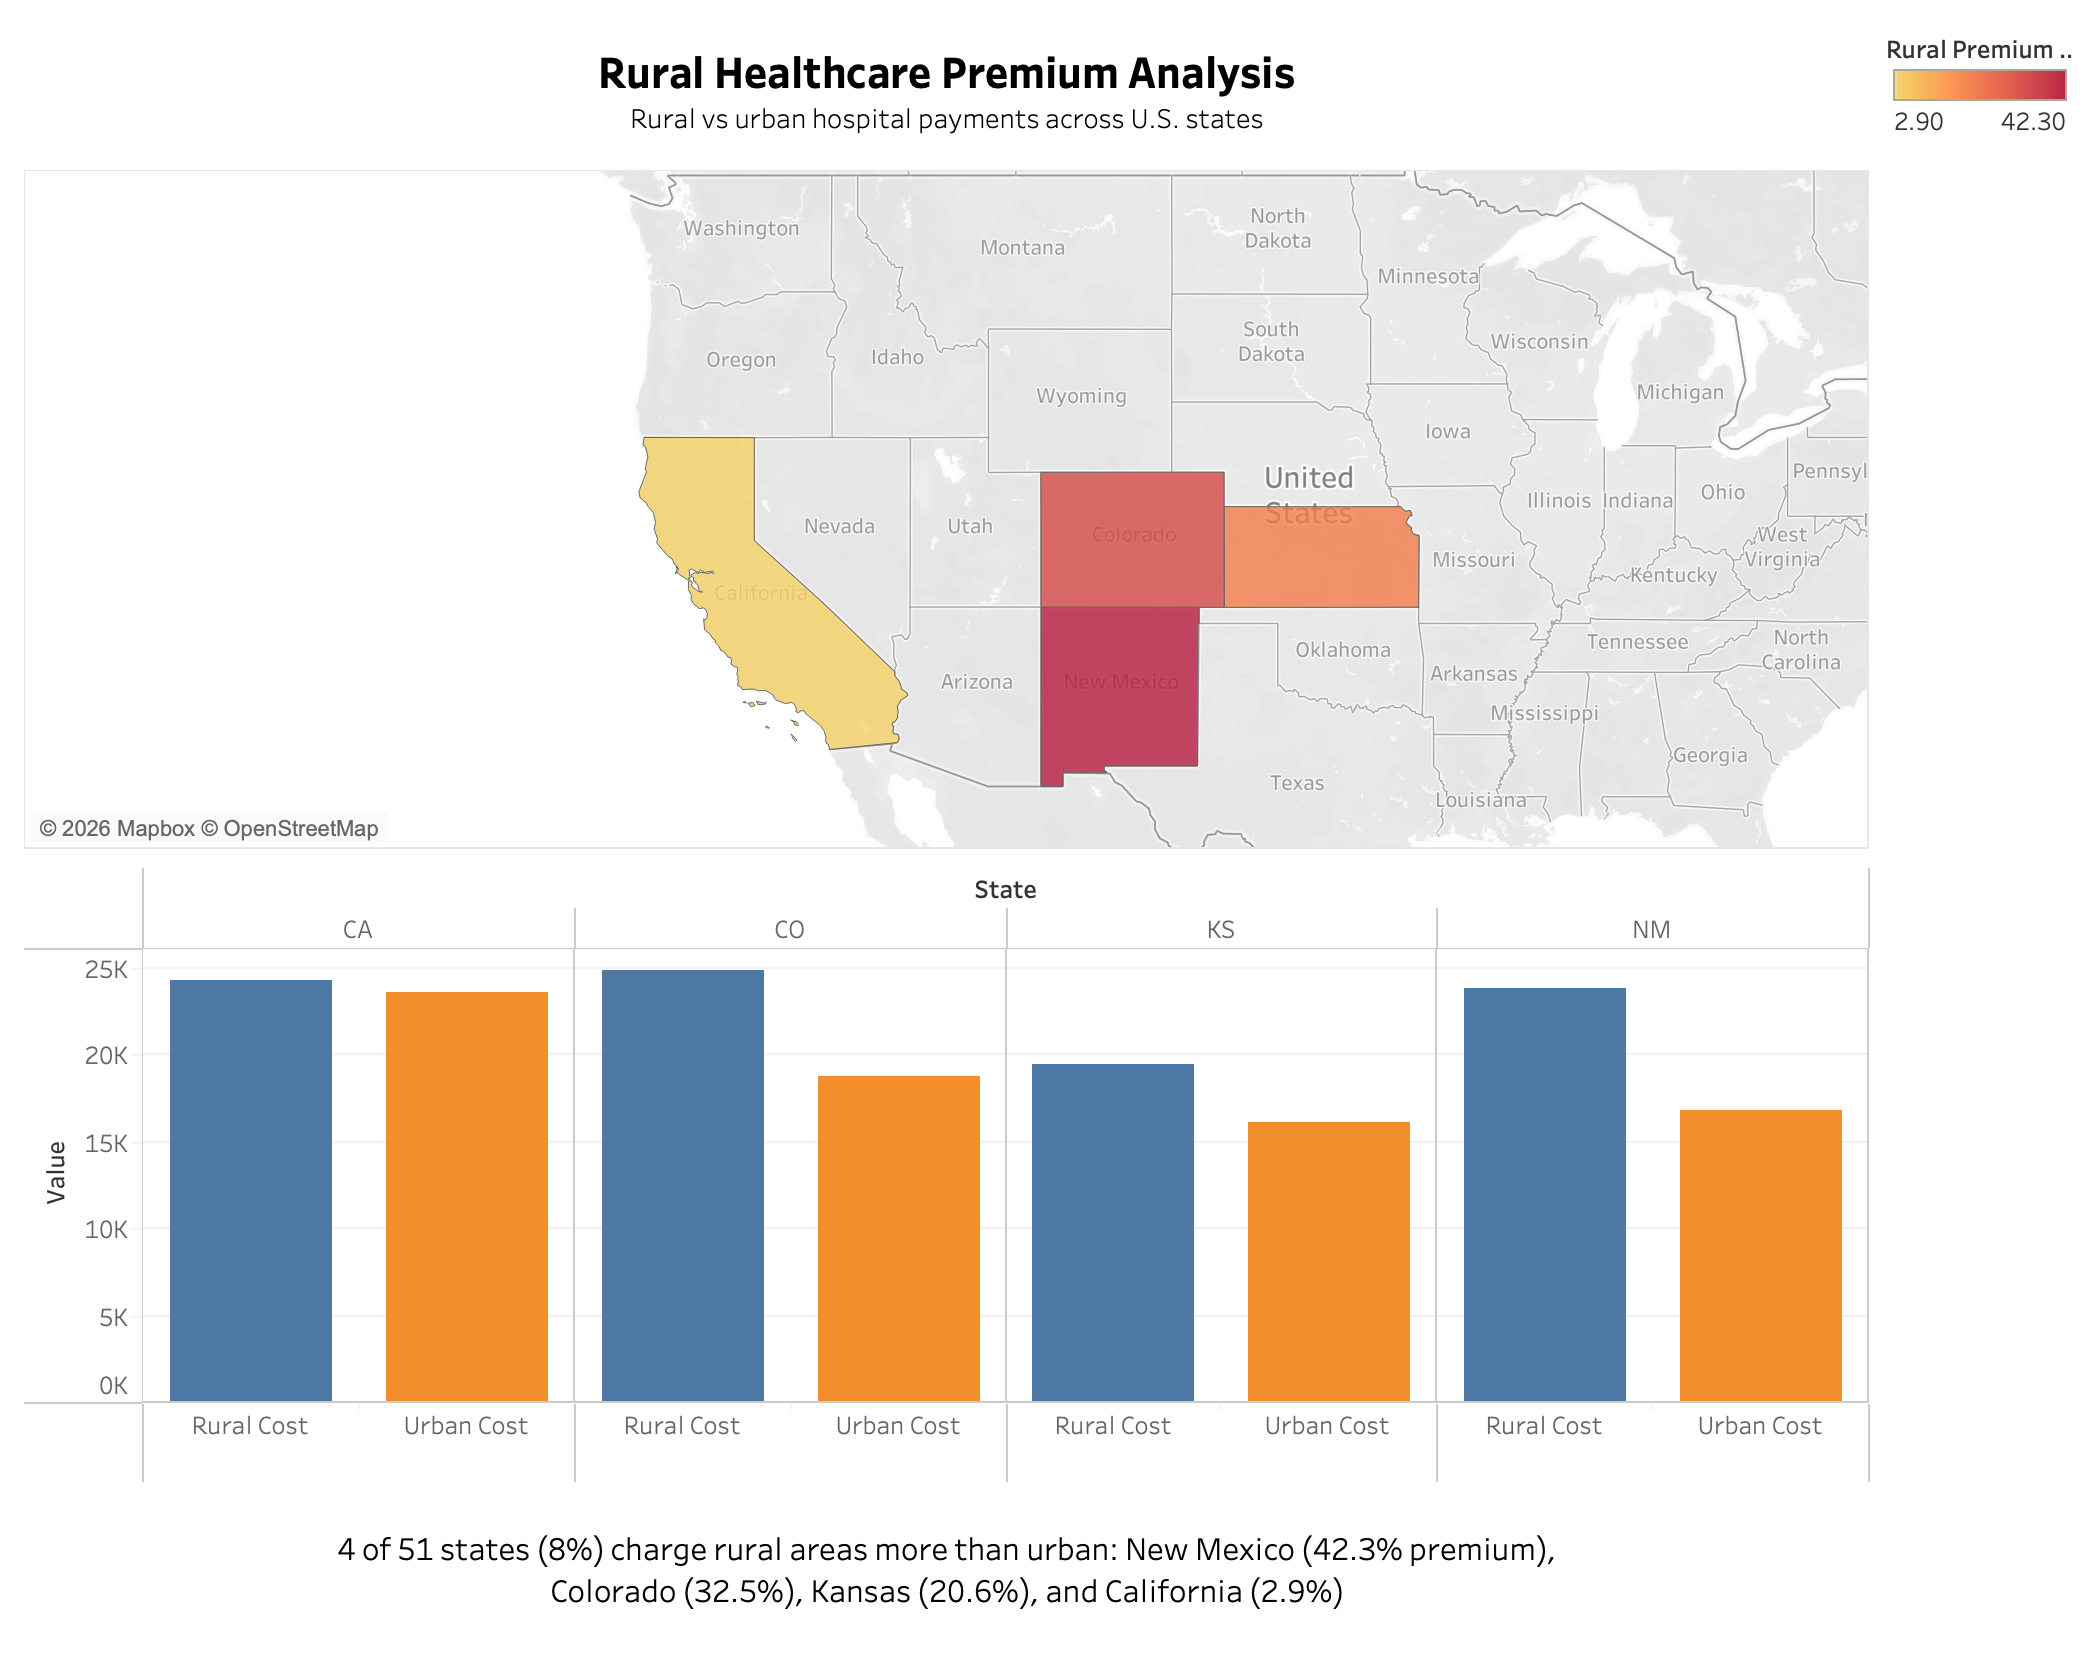

The dashboard page shown, as its layout file describes it:
{"tool":"tableau","page":{"name":"Dashboard 4 - Rural Premium Analysis","canvas":[1000,1000],"units":"permille","ordinal":3},"visuals":[{"type":"text","box":[7.6,9.6,886.7,88.3]},{"type":"legend","title":"Map - Rural Premium States","param":"[federated.020715v1bfnhyu1eak4wx0g9d9db].[sum:rural_premium_pct:qk]","box":[894.3,9.6,98.1,78.1]},{"type":"worksheet","title":"Map - Rural Premium States","mark":"Automatic","box":[7.6,97.9,886.7,418.4]},{"type":"worksheet","title":"Bar - Rural vs Urban Costs","mark":"Automatic","cols":["state"],"box":[7.6,516.3,886.7,380.3]},{"type":"text","box":[7.6,896.6,886.7,93.8]}]}

Visuals, with their boxes on the dashboard's canvas, which has no fixed pixel size, in thousandths of its width and height (x1, y1, x2, y2). These are canvas units, not pixel positions in the 2100x1664 screenshot, which may show the page scaled, cropped or inside an application window:
text: (8,10,894,98)
"Map - Rural Premium States" legend: (894,10,992,88)
"Map - Rural Premium States" worksheet: (8,98,894,516)
"Bar - Rural vs Urban Costs" worksheet: (8,516,894,897)
text: (8,897,894,990)
